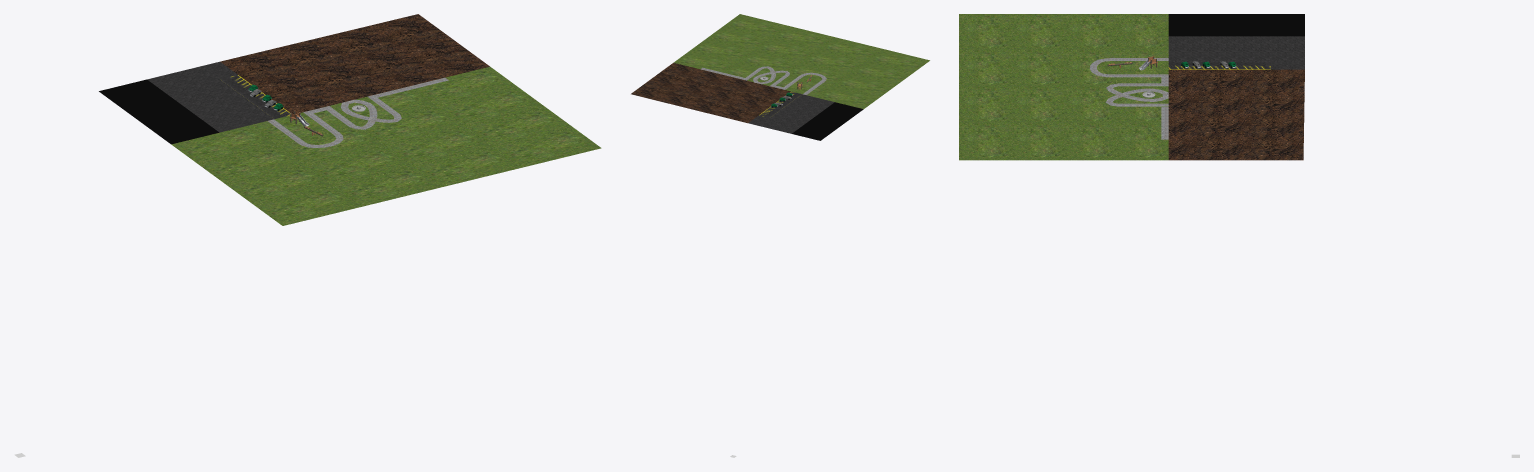
Rendered from newMap1 (trailer).fbx.
3 views of the same model, side by side, from view 1: azimuth 30°, elevation 25°; view 2: azimuth 150°, elevation 25°; view 3: azimuth 270°, elevation 25° (orthographic). The views are drawn at different scales.
Parts seen in each view (by area): view 1: Plane, path; view 2: Plane, path; view 3: Plane, path.
Part boxes in pixels (x1,y1,x2,y2): Plane: (99,14,601,225); path: (268,77,448,147); Plane: (631,14,929,140); path: (700,66,826,94); Plane: (959,14,1304,160); path: (1090,58,1168,139).
Size of the model in its own units: 24428 by 33963 by 39600.
